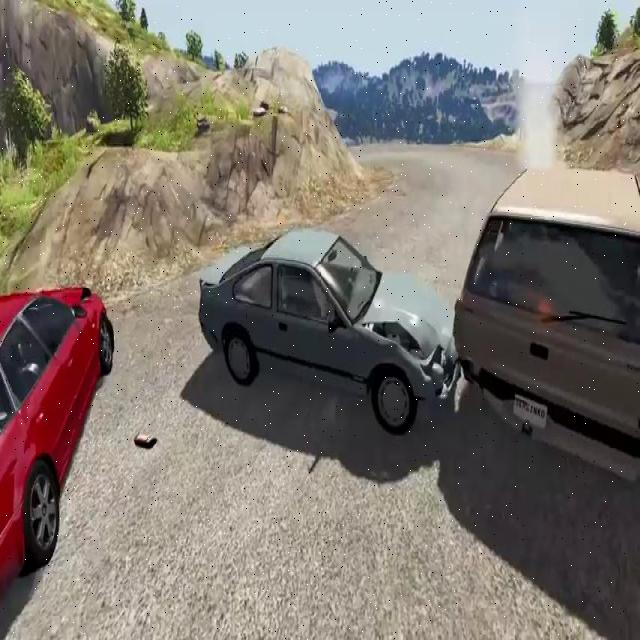moderate: (194, 158, 640, 494)
